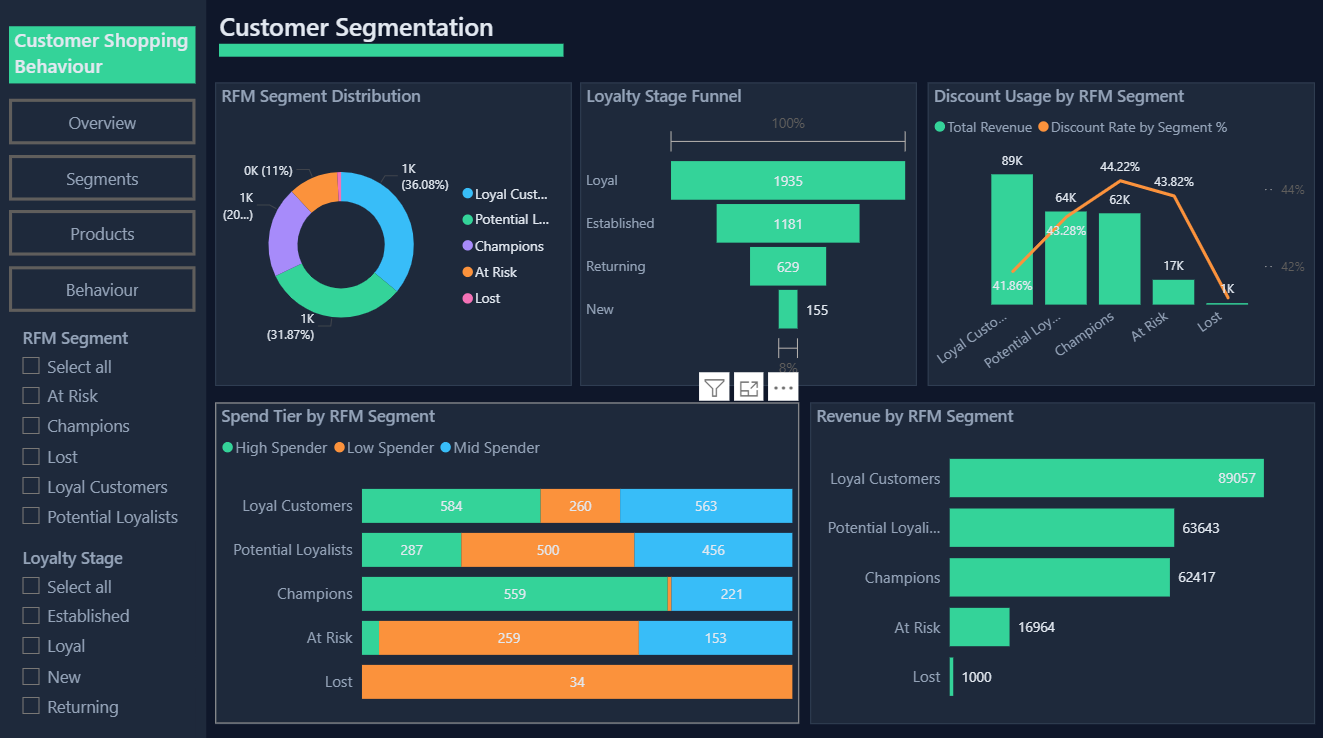

The dashboard page shown, as its layout file describes it:
{"tool":"powerbi","page":{"name":"Segments","canvas":[1280,720],"ordinal":1},"visuals":[{"type":"donutChart","title":"RFM Segment Distribution","fields":{"Category":["customer_behaviour customer.rfm_segment"],"Y":["_Measures (3).Total Customers"]},"box":[208.8,85,343.8,292.5],"z":0},{"type":"textbox","box":[0,0,200,720],"z":1000},{"type":"actionButton","title":"Overview","box":[10,100,180,44],"z":2000},{"type":"actionButton","title":"Segments","box":[10,154,180,44],"z":3000},{"type":"actionButton","title":"Products","box":[10,208,180,44],"z":4000},{"type":"actionButton","title":"Behaviour","box":[10,262,180,44],"z":5000},{"type":"textbox","title":"Customer Shopping Behaviour","box":[9.7,30.2,179.8,55.5],"z":6000},{"type":"clusteredBarChart","title":"Revenue by RFM Segment","fields":{"Category":["customer_behaviour customer.rfm_segment"],"Y":["_Measures (3).Total Revenue"]},"box":[783,393.3,487.4,310.1],"z":7000},{"type":"funnel","title":"Loyalty Stage Funnel","fields":{"Category":["customer_behaviour customer.loyalty_stage"],"Y":["_Measures (3).Total Customers"]},"box":[561.2,85,325,292.5],"z":8000},{"type":"lineClusteredColumnComboChart","title":"Discount Usage by RFM Segment","fields":{"Category":["customer_behaviour customer.rfm_segment"],"Y":["_Measures (3).Total Revenue"],"Y2":["_Measures (3).Discount Rate by Segment %"]},"box":[896.2,85,373.8,292.5],"z":9000},{"type":"hundredPercentStackedBarChart","title":"Spend Tier by RFM Segment","fields":{"Category":["customer_behaviour customer.rfm_segment"],"Y":["_Measures (3).Total Customers"],"Series":["customer_behaviour customer.spend_tier"]},"box":[208.7,393.3,563.4,310.1],"z":10000},{"type":"slicer","fields":{"Values":["customer_behaviour customer.rfm_segment"]},"box":[9.7,314.9,187,212.3],"z":11000},{"type":"slicer","fields":{"Values":["customer_behaviour customer.loyalty_stage"]},"box":[9.7,527.2,179.8,193],"z":12000},{"type":"textbox","box":[205,10,280,42.5],"z":13000},{"type":"shape","box":[212.5,47.5,332.5,12.5],"z":14000}]}

Visuals, with their boxes in screenshot pixels (x1, y1, x2, y2), scaled from the page's 1280x720 canvas onto the 1323x738 screenshot:
"RFM Segment Distribution" donutChart: select_region(216, 87, 571, 387)
textbox: select_region(0, 0, 207, 737)
"Overview" actionButton: select_region(10, 102, 196, 148)
"Segments" actionButton: select_region(10, 158, 196, 203)
"Products" actionButton: select_region(10, 213, 196, 258)
"Behaviour" actionButton: select_region(10, 269, 196, 314)
"Customer Shopping Behaviour" textbox: select_region(10, 31, 196, 88)
"Revenue by RFM Segment" clusteredBarChart: select_region(809, 403, 1313, 721)
"Loyalty Stage Funnel" funnel: select_region(580, 87, 916, 387)
"Discount Usage by RFM Segment" lineClusteredColumnComboChart: select_region(926, 87, 1313, 387)
"Spend Tier by RFM Segment" hundredPercentStackedBarChart: select_region(216, 403, 798, 721)
slicer - customer_behaviour customer.rfm_segment: select_region(10, 323, 203, 540)
slicer - customer_behaviour customer.loyalty_stage: select_region(10, 540, 196, 737)
textbox: select_region(212, 10, 501, 54)
shape: select_region(220, 49, 563, 61)
